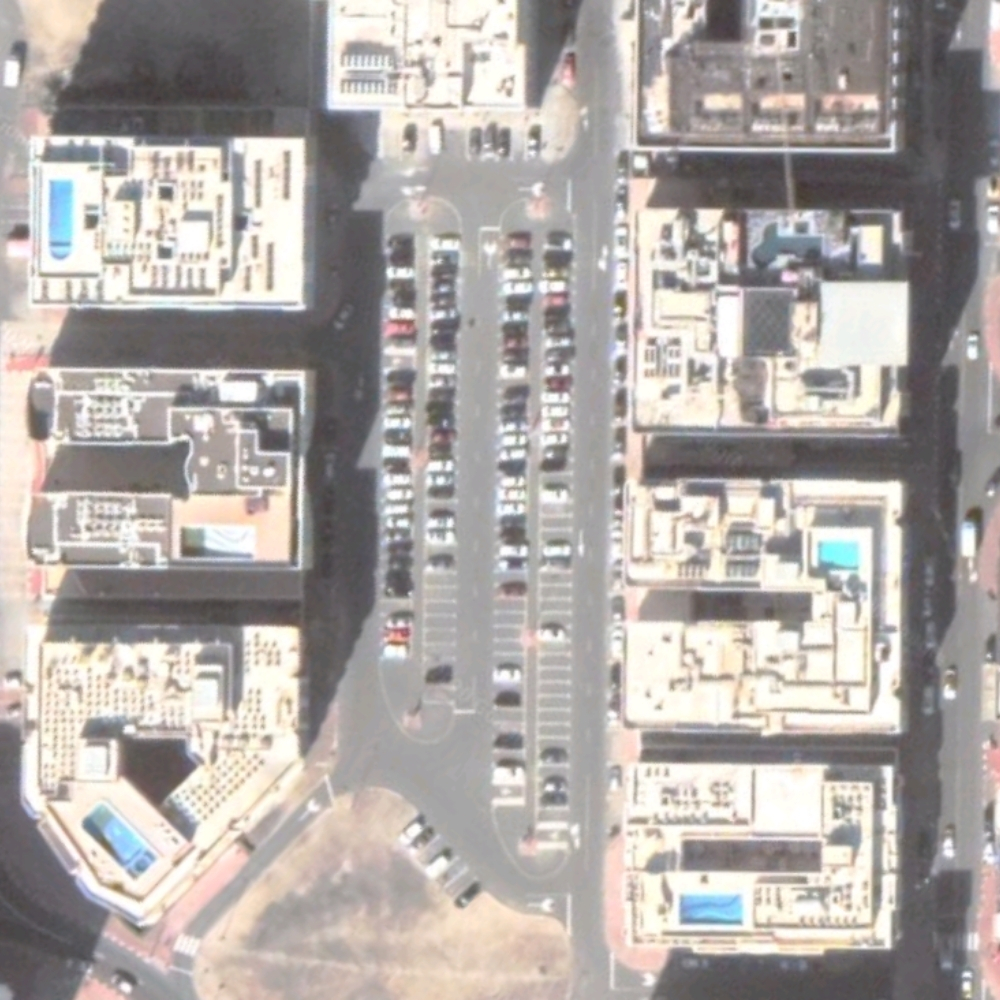parking: (320, 115, 570, 920)
